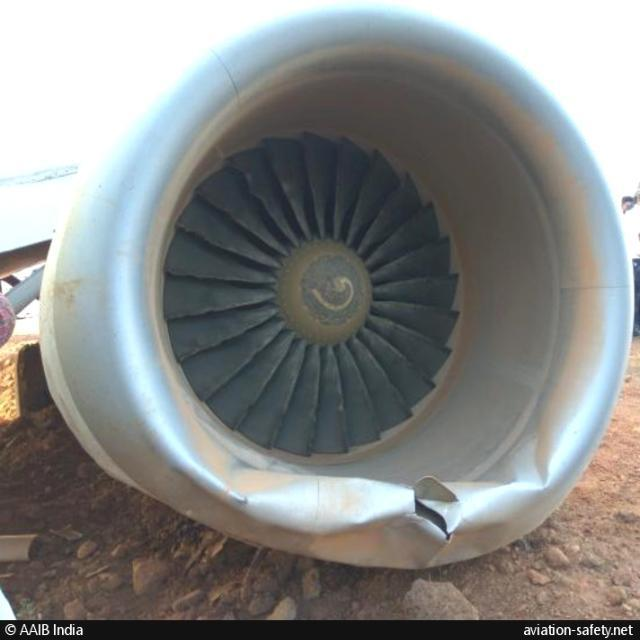crack: (413, 493, 451, 547)
dent: (250, 476, 412, 531), (511, 438, 554, 491), (424, 496, 472, 524)
